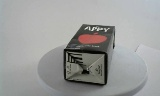appy: (58, 23, 109, 86)
